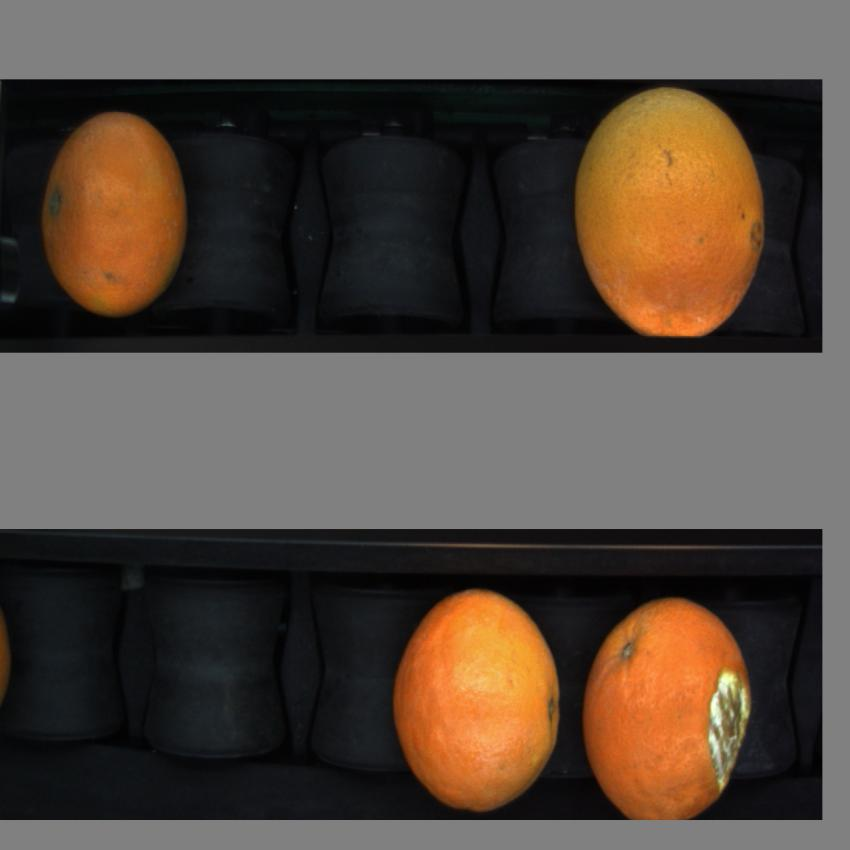Buen estado: (572, 90, 768, 336), (383, 590, 568, 811), (38, 101, 198, 316)
Mal estado: (581, 597, 757, 819)
